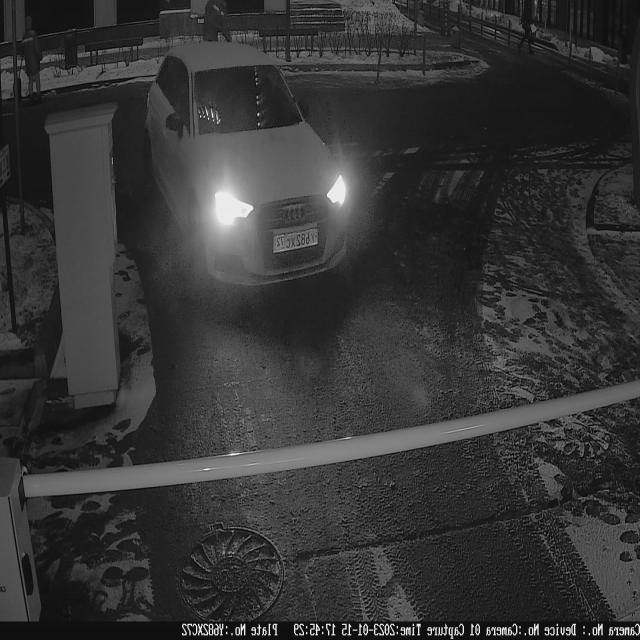car-plate-numbers: (271, 225, 322, 257)
